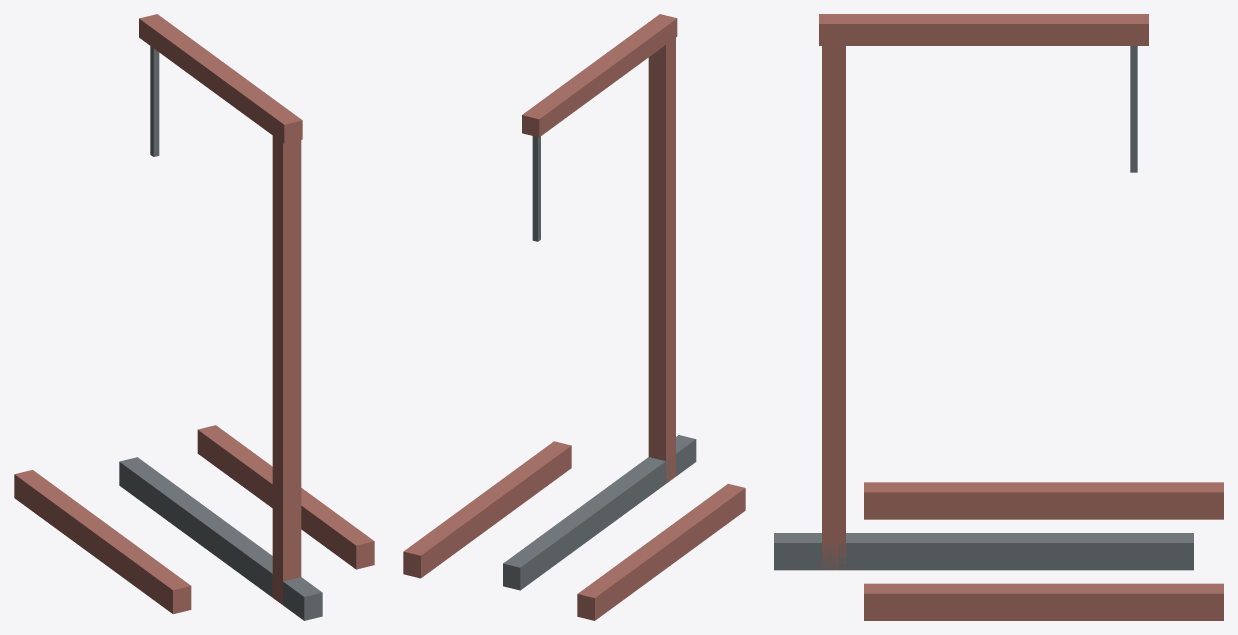
Rendered from engine_hoist.glb.
The picture shows the model from 3 angles, left to right: view 1: azimuth 30°, elevation 25°; view 2: azimuth 150°, elevation 25°; view 3: azimuth 270°, elevation 25°; orthographic projection. The views are drawn at different scales.
Visible parts, largest first — view 1: body; view 2: body; view 3: body.
Boxes of the visible parts, x1,y1,x2,y2 form: body: (14,14,374,620); body: (403,14,745,620); body: (774,14,1223,620).
Size of the model in its own units: 0.88 by 2.01 by 1.5.
